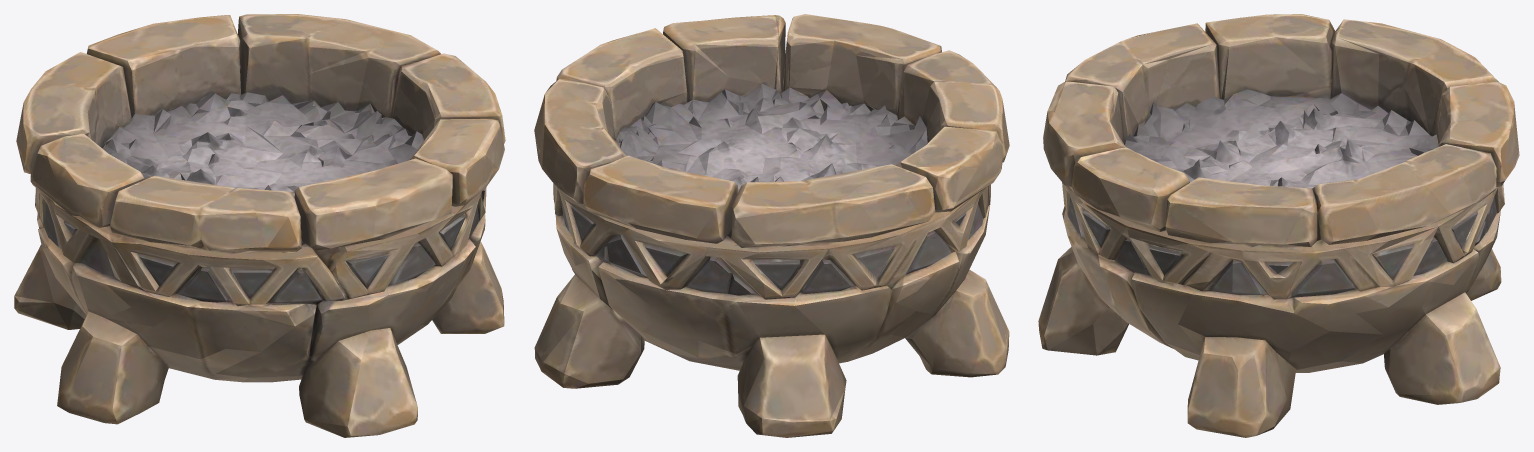
The model's file is brazier.glb.
3 views of the same model, side by side, from view 1: azimuth 30°, elevation 25°; view 2: azimuth 150°, elevation 25°; view 3: azimuth 270°, elevation 25° (orthographic). The views are drawn at different scales.
Visible parts, largest first — view 1: output_unwrapped; view 2: output_unwrapped; view 3: output_unwrapped.
Boxes of the visible parts, <box> form: output_unwrapped: <box>14,14,505,437</box>; output_unwrapped: <box>534,14,1009,437</box>; output_unwrapped: <box>1038,14,1519,437</box>.
Size of the model in its own units: 1.9 by 0.9591 by 1.85.
Materials: 1 (1 with a texture image).
